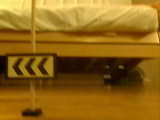left: (6, 53, 55, 80)
